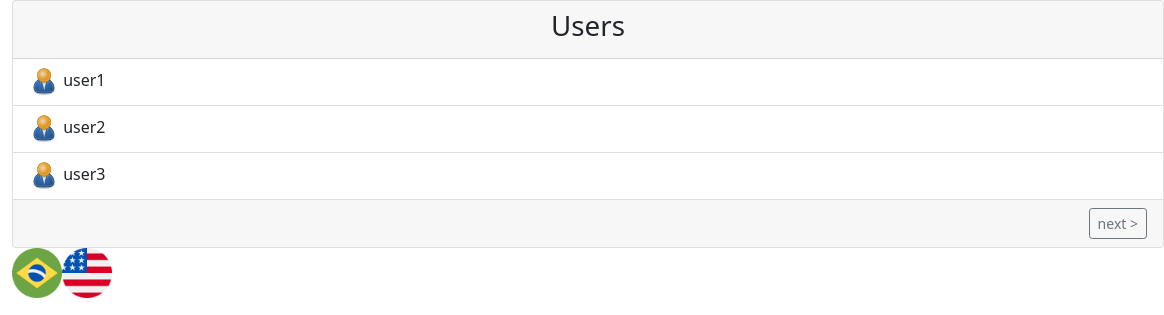
Test: User List › displays next page after clicking next
The width and height of the screenshot is (1164, 315).
Expected: the text "user1" is shown, [29, 67, 106, 97]
Click the button "next >".
click(1118, 224)  # box [1089, 208, 1147, 239]
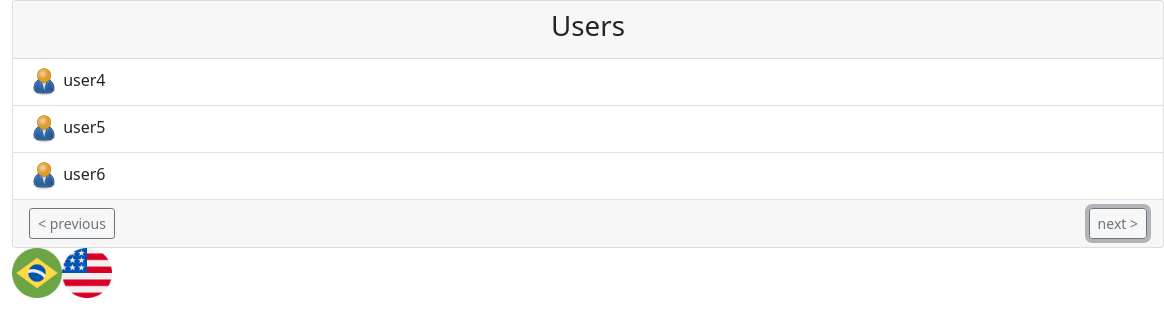
Now the text "user4" is shown, box [29, 67, 106, 97]
